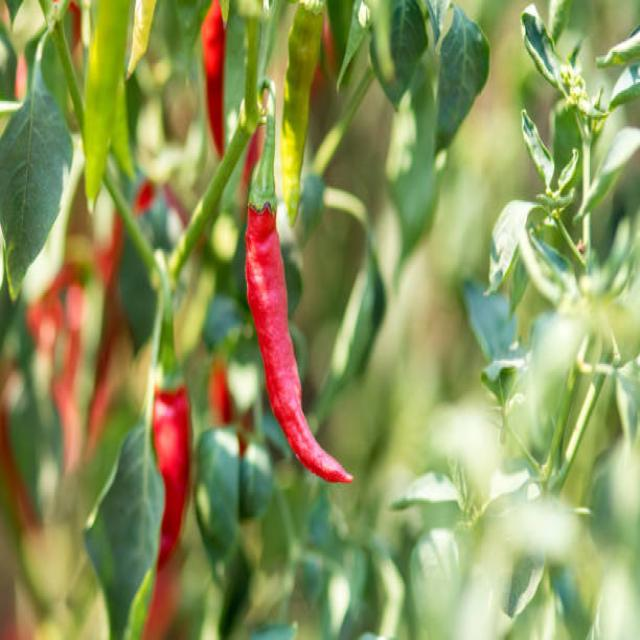Ripe: (247, 202, 355, 486)
